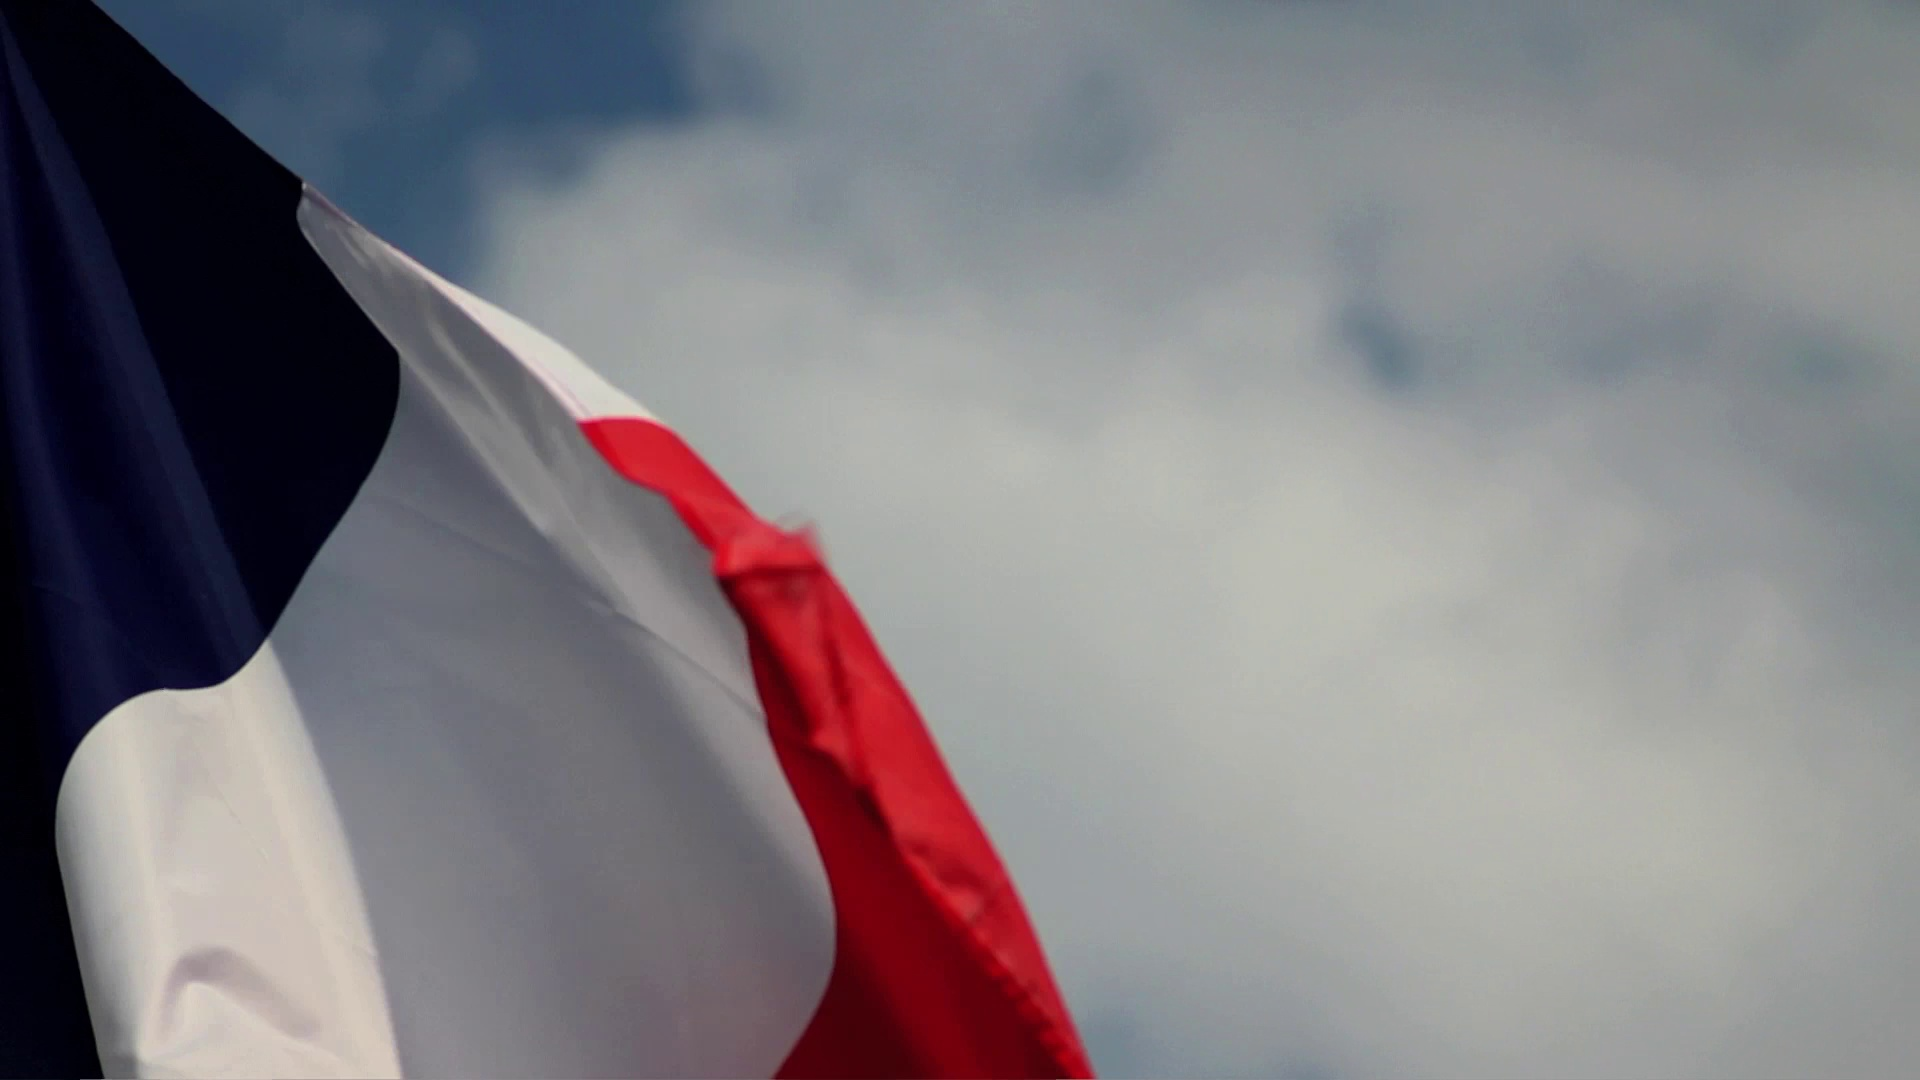French Flag: (1, 1, 1102, 1080)
